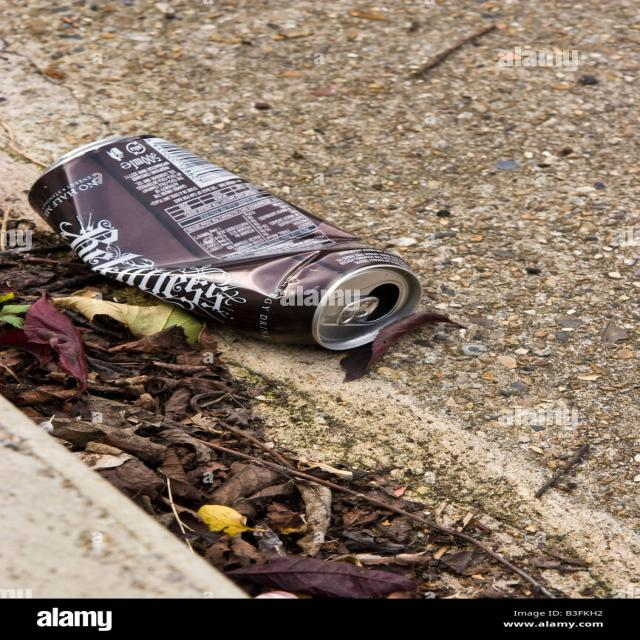aluminum_can: (29, 135, 404, 351)
